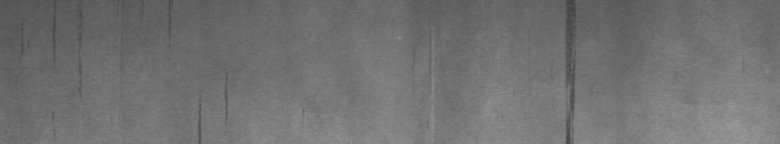hd: (561, 4, 580, 136)
